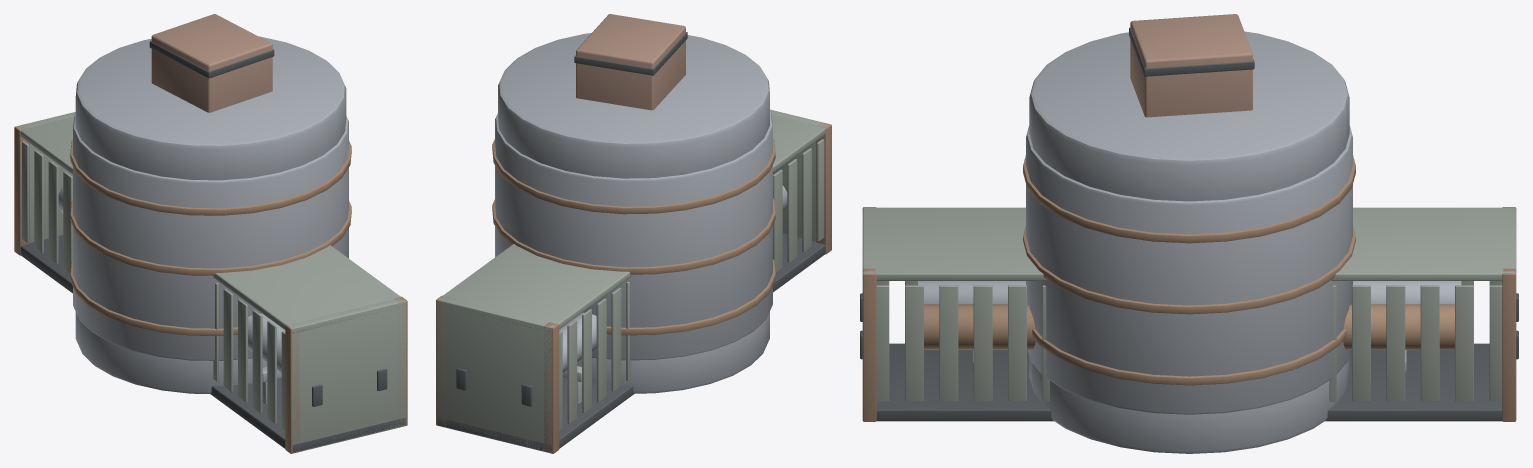
File: arena_props.glb
3 views of the same model, side by side, from view 1: azimuth 30°, elevation 25°; view 2: azimuth 150°, elevation 25°; view 3: azimuth 270°, elevation 25° (orthographic). The views are drawn at different scales.
Parts seen in each view (by area): view 1: prop_tank, prop_container, prop_crates, prop_pipes; view 2: prop_tank, prop_container, prop_crates, prop_pipes; view 3: prop_tank, prop_container, prop_crates, prop_pipes.
Boxes of the visible parts, left/top/right/bottom form: prop_tank: left=70, top=36, right=351, bottom=393; prop_container: left=14, top=112, right=407, bottom=453; prop_crates: left=149, top=14, right=274, bottom=112; prop_pipes: left=58, top=187, right=285, bottom=404; prop_tank: left=492, top=33, right=775, bottom=393; prop_container: left=436, top=109, right=831, bottom=453; prop_crates: left=574, top=14, right=687, bottom=110; prop_pipes: left=559, top=185, right=787, bottom=403; prop_tank: left=1023, top=31, right=1355, bottom=453; prop_container: left=860, top=207, right=1518, bottom=421; prop_crates: left=1129, top=14, right=1254, bottom=117; prop_pipes: left=917, top=281, right=1461, bottom=371.
Size of the model in its own units: 6.12 by 7.15 by 12.1.
